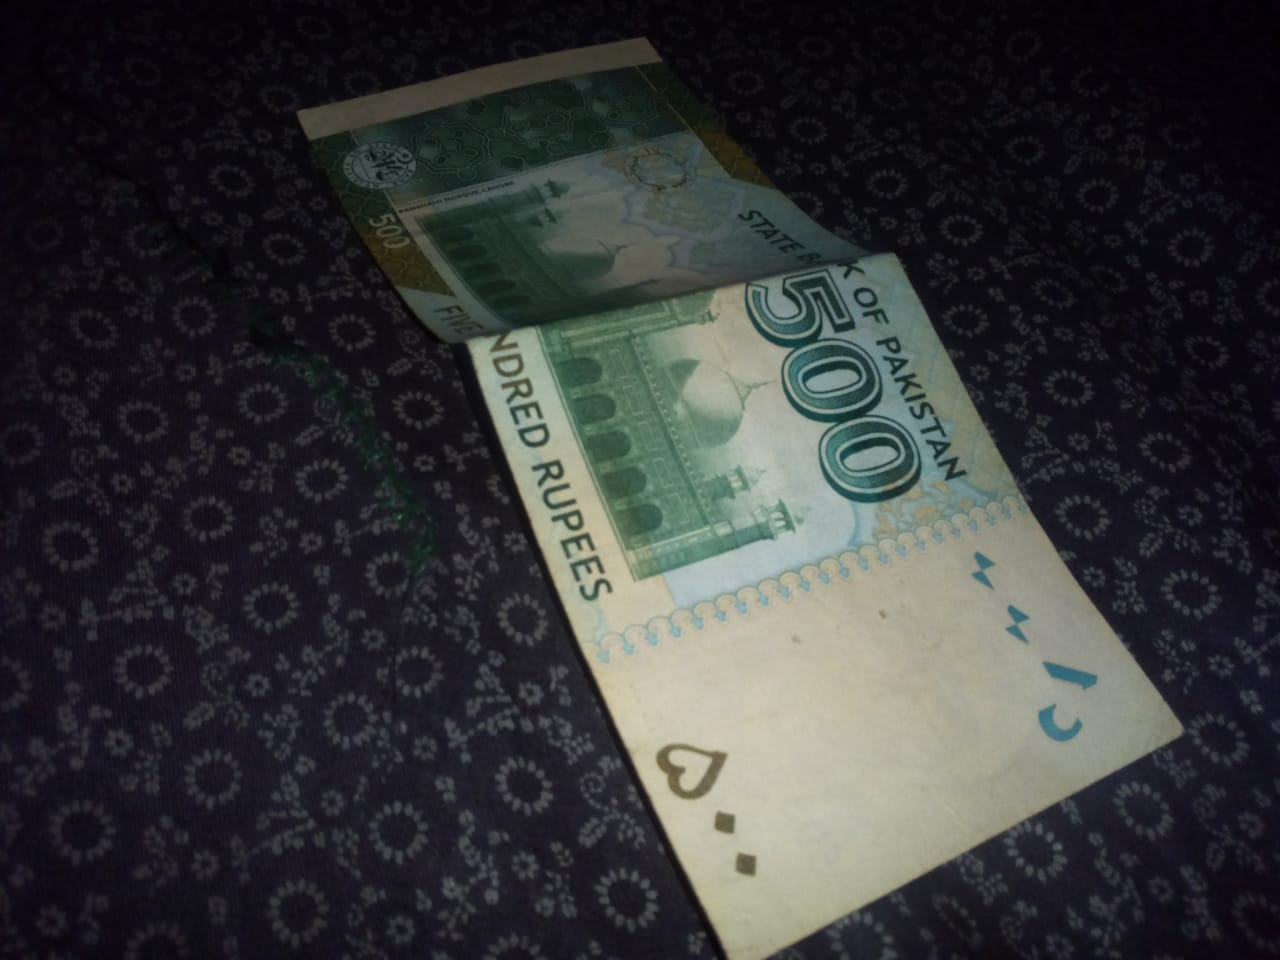500 rupee: (281, 43, 1185, 952)
